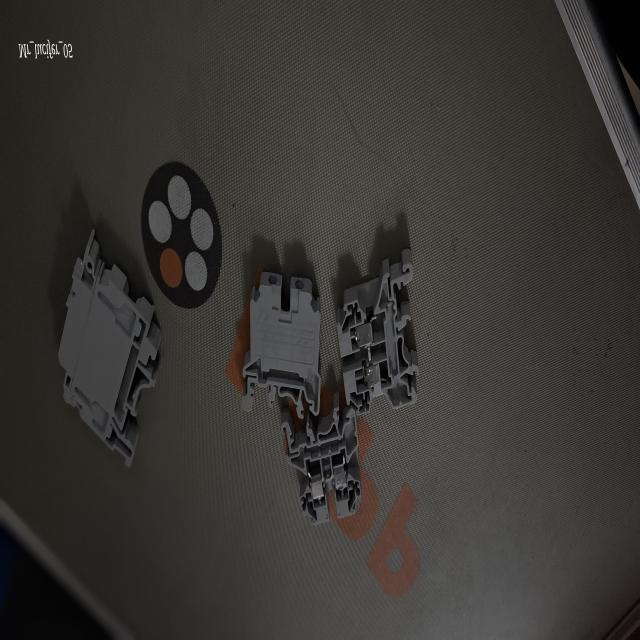Inverted: (54, 229, 161, 472), (235, 274, 322, 420)
Pass: (338, 243, 422, 420), (280, 401, 362, 528)
